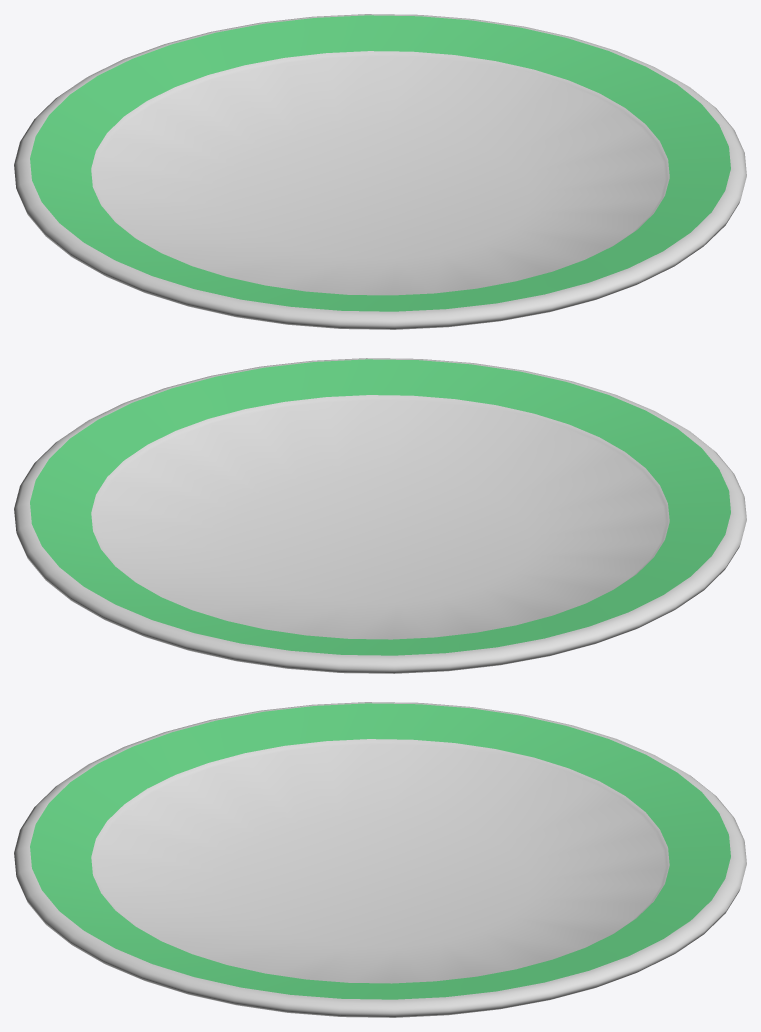
File: J_PlateA.obj
3 views of the same model, one above another, from view 1: azimuth 30°, elevation 25°; view 2: azimuth 150°, elevation 25°; view 3: azimuth 270°, elevation 25° (orthographic).
Visible parts, largest first — view 1: J_PlateA_m0, J_PlateA_m1; view 2: J_PlateA_m0, J_PlateA_m1; view 3: J_PlateA_m0, J_PlateA_m1.
Part boxes in pixels (left/top/right/bottom): J_PlateA_m0: left=14, top=14, right=746, bottom=329; J_PlateA_m1: left=30, top=15, right=730, bottom=311; J_PlateA_m0: left=14, top=358, right=746, bottom=673; J_PlateA_m1: left=30, top=359, right=730, bottom=655; J_PlateA_m0: left=14, top=702, right=746, bottom=1017; J_PlateA_m1: left=30, top=703, right=730, bottom=999.
Bounding box in the file's own units: 0.2897 × 0.0192 × 0.2898.
